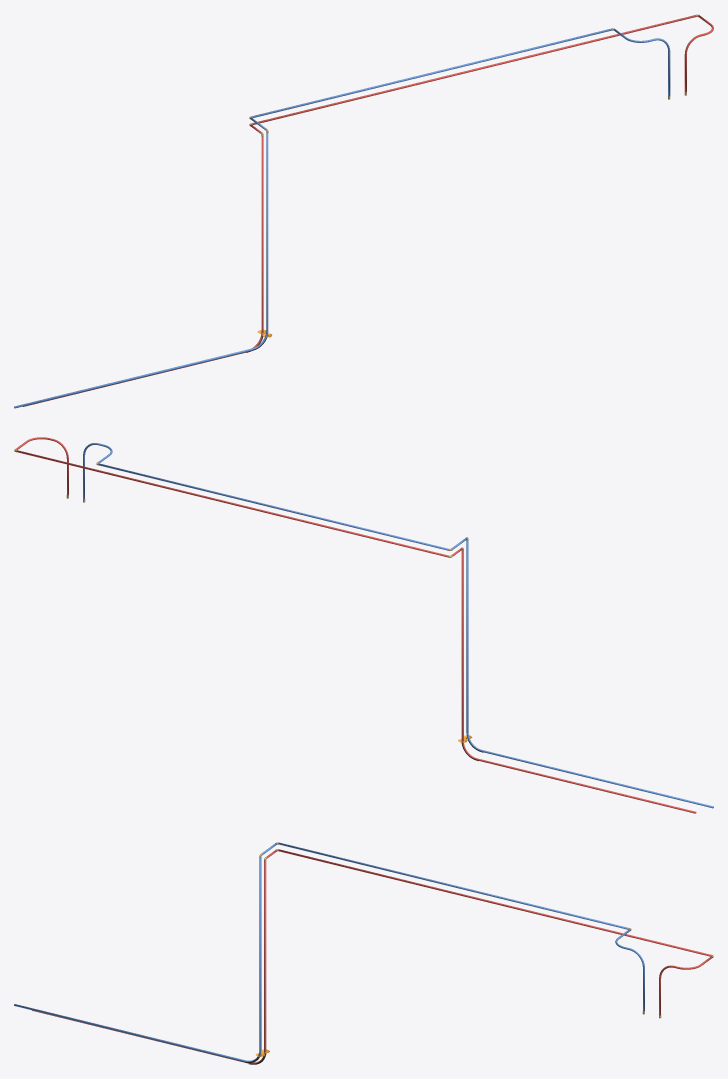
Rendered from pipes_supply__water_heater-garage_hybrid+garage_gas_tank_and_plumbing-pex.glb.
3 renders of one model, top to bottom at view 1: azimuth 30°, elevation 25°; view 2: azimuth 150°, elevation 25°; view 3: azimuth 330°, elevation 25°, orthographic. The views are drawn at different scales.
Parts seen in each view (by area): view 1: pipe_supply_cold_wh_hybrid__pex, pipe_supply_hot_wh_hybrid__pex; view 2: pipe_supply_hot_wh_hybrid__pex, pipe_supply_cold_wh_hybrid__pex; view 3: pipe_supply_cold_wh_hybrid__pex, pipe_supply_hot_wh_hybrid__pex.
Part boxes in pixels (x1,y1,x2,y2): pipe_supply_cold_wh_hybrid__pex: [14, 28, 670, 408]; pipe_supply_hot_wh_hybrid__pex: [23, 15, 713, 406]; pipe_supply_hot_wh_hybrid__pex: [15, 437, 696, 813]; pipe_supply_cold_wh_hybrid__pex: [83, 443, 713, 808]; pipe_supply_cold_wh_hybrid__pex: [14, 842, 644, 1061]; pipe_supply_hot_wh_hybrid__pex: [32, 849, 712, 1063].
Bounding box in the file's own units: 8.43 × 2.56 × 0.4644.
